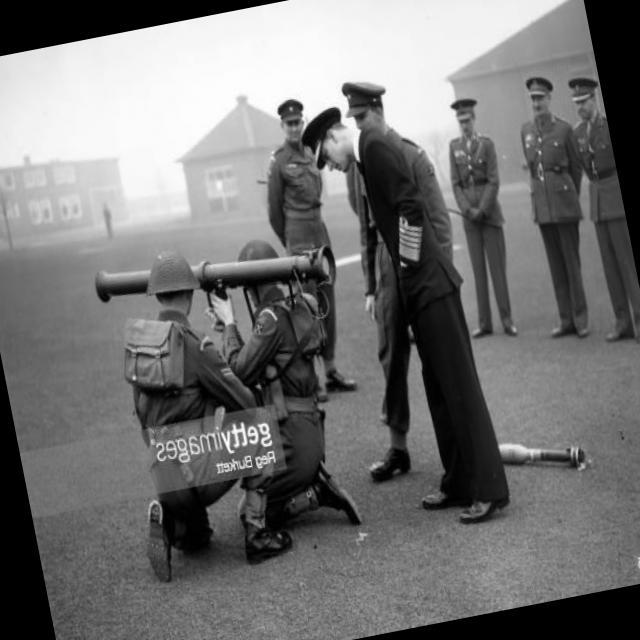rocket: (92, 227, 342, 331)
